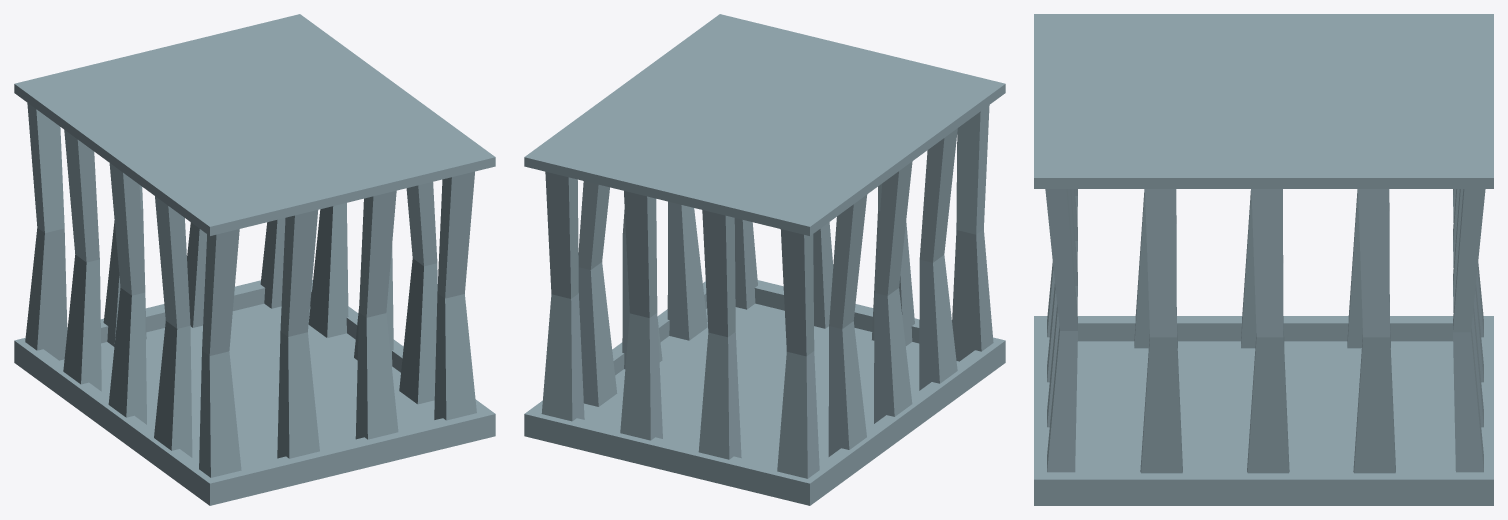
The model's file is cage.fbx.
3 views of the same model, side by side, from view 1: azimuth 30°, elevation 25°; view 2: azimuth 150°, elevation 25°; view 3: azimuth 270°, elevation 25° (orthographic). The views are drawn at different scales.
Parts seen in each view (by area): view 1: Plane.001; view 2: Plane.001; view 3: Plane.001.
Part boxes in pixels (x1=…): Plane.001: x1=14, y1=14, x2=495, y2=505; Plane.001: x1=524, y1=14, x2=1005, y2=505; Plane.001: x1=1034, y1=14, x2=1493, y2=505.
Bounding box in the file's own units: 219 × 204 × 259.
